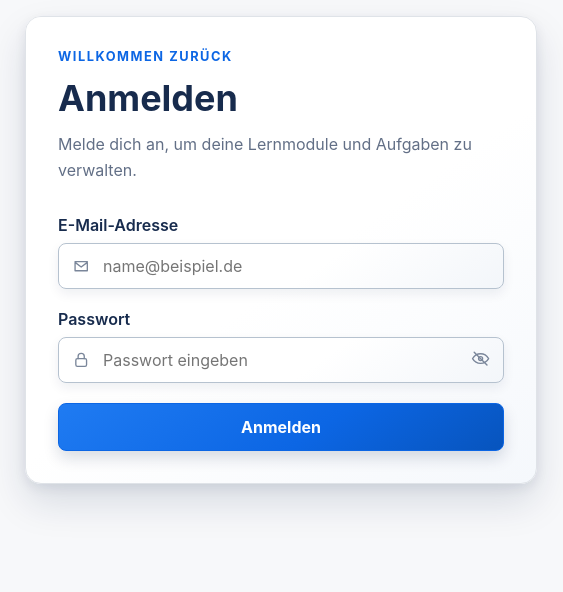
Test: LoginView › shows a message for invalid credentials
Type "student@example.com" into the field with id "login-email" at x=281, y=266, box 58,243 -> 504,289
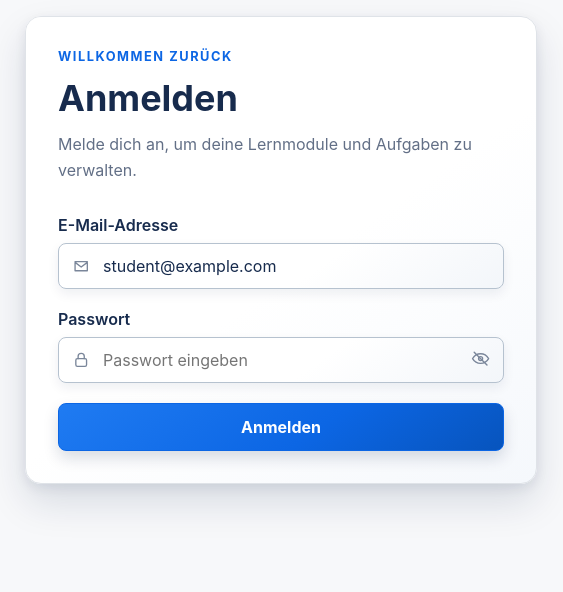
Type "Falsches-Passwort-2026!" into the password field with id "login-password" at x=281, y=360, box 58,337 -> 504,383
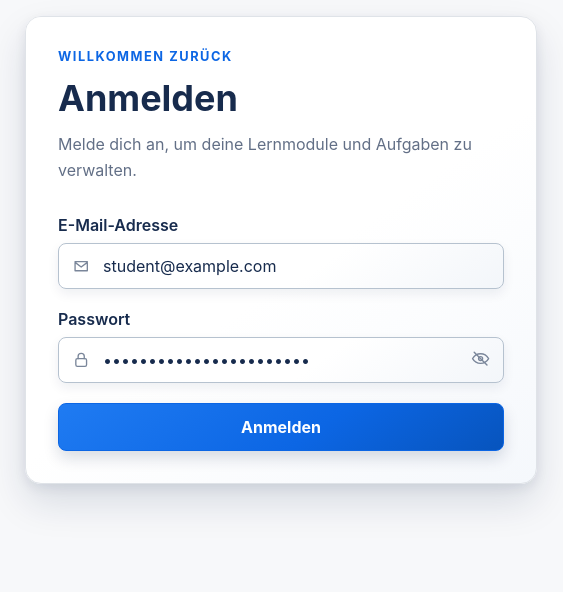
Submit the form, box 58,215 -> 504,451
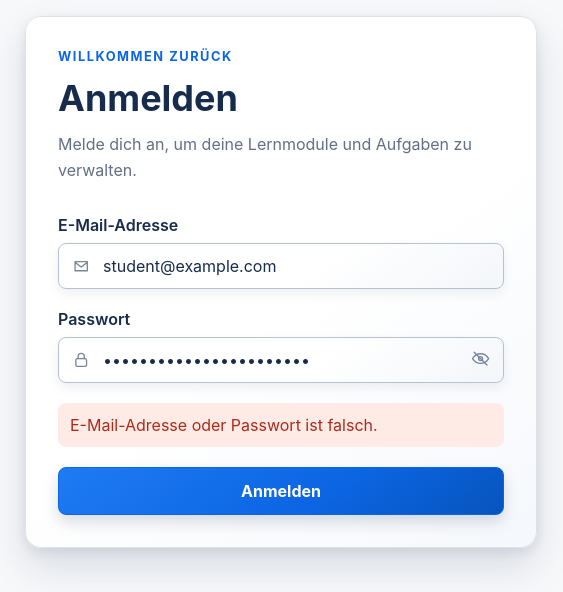
Expected: the text "E-Mail-Adresse oder Passwort ist falsch." is shown, 58,403 -> 504,447
